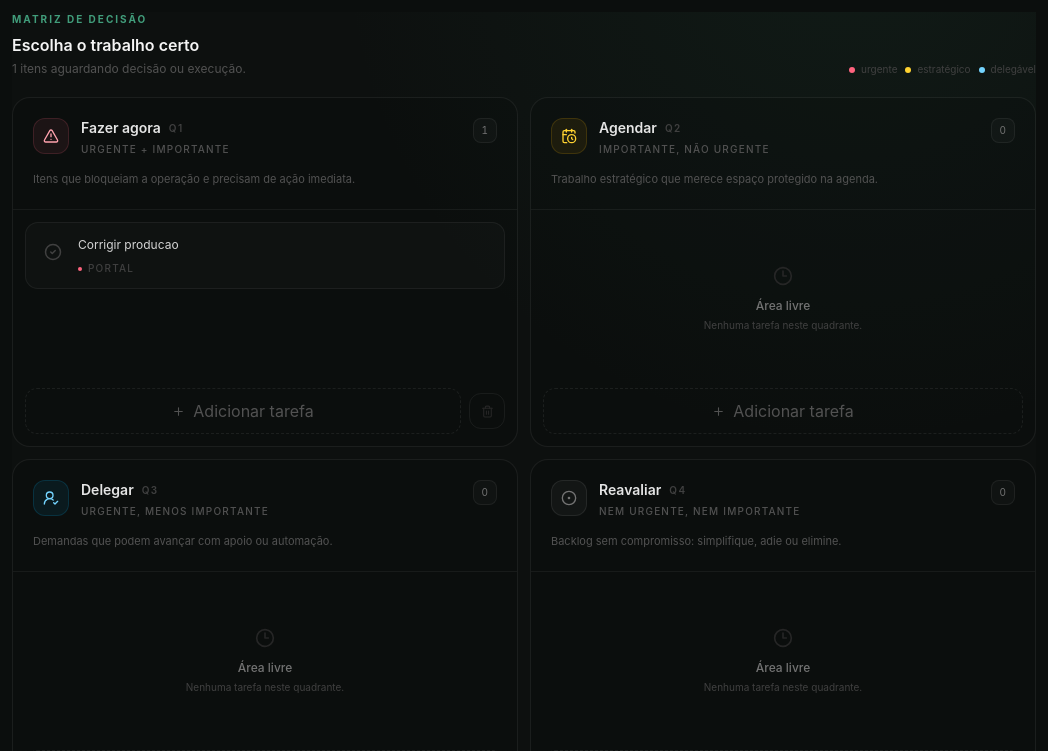
Test case: EisenhowerMatrix › mostra falha de persistencia sem descartar o texto
This screenshot has width=1048, height=751.
Click the button "Adicionar tarefa" below "Portal".
click(243, 411)  # box [25,388,461,434]
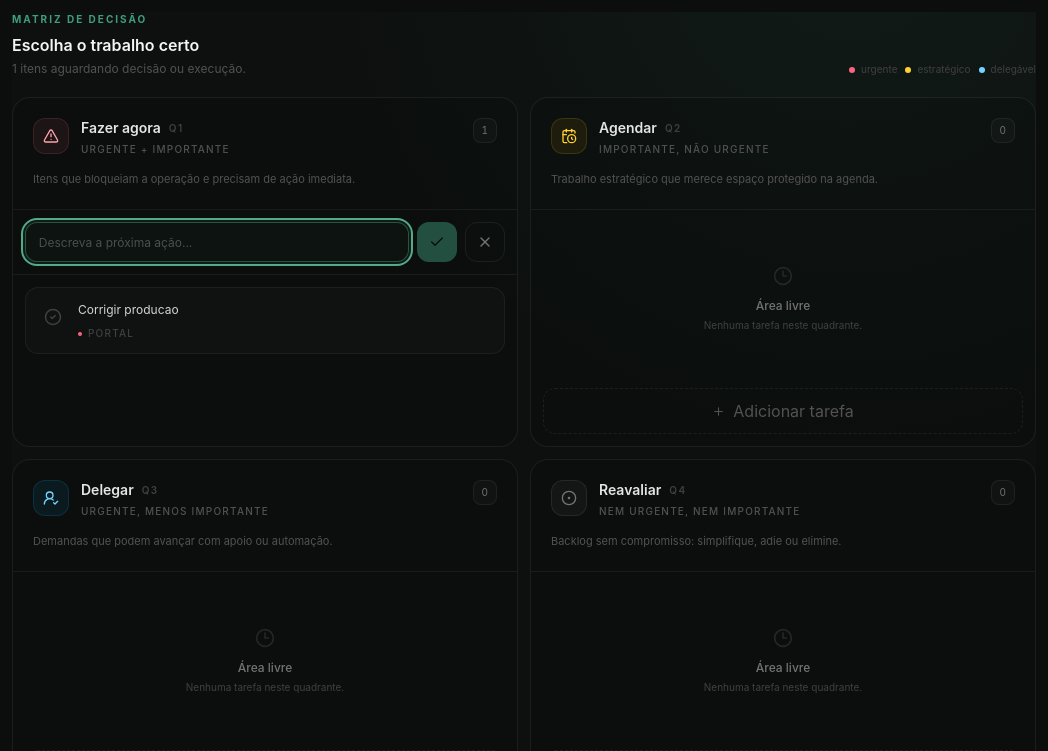
Type "Nao perder" into the field with placeholder "Descreva a próxima ação...".
click(217, 242); type("Nao perder")  # box [25,222,409,262]
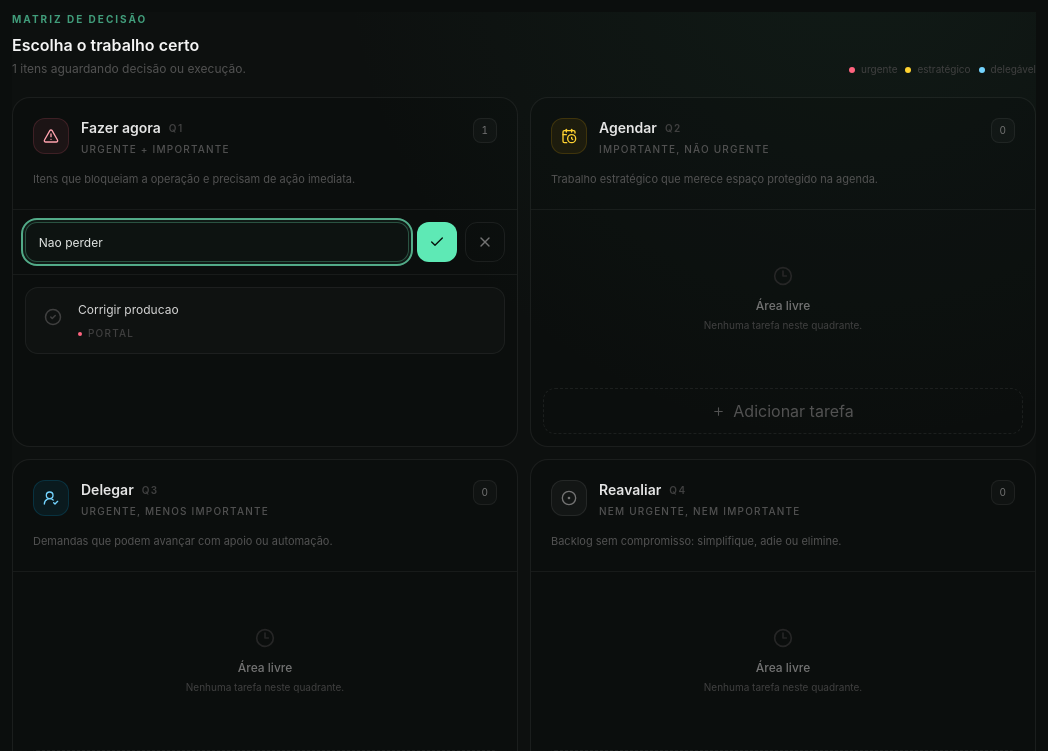
Click the button named "Adicionar tarefa".
click(437, 242)  # box [417,222,457,262]
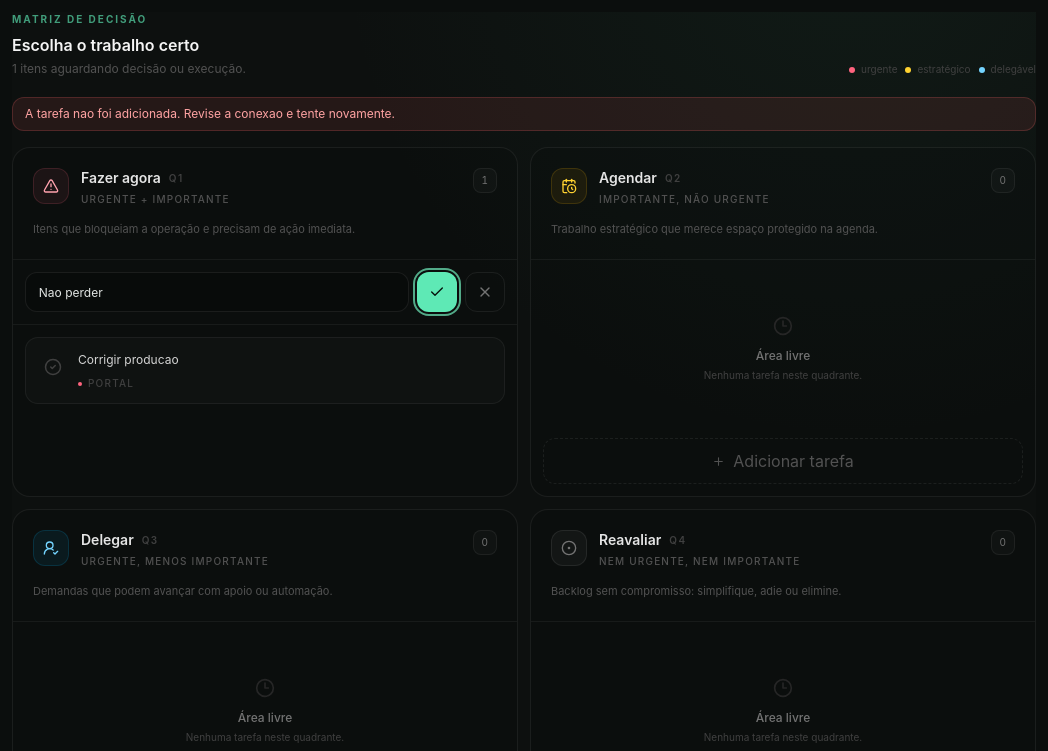
Expected: the message shows "nao foi adicionada", [25,106,395,121]
